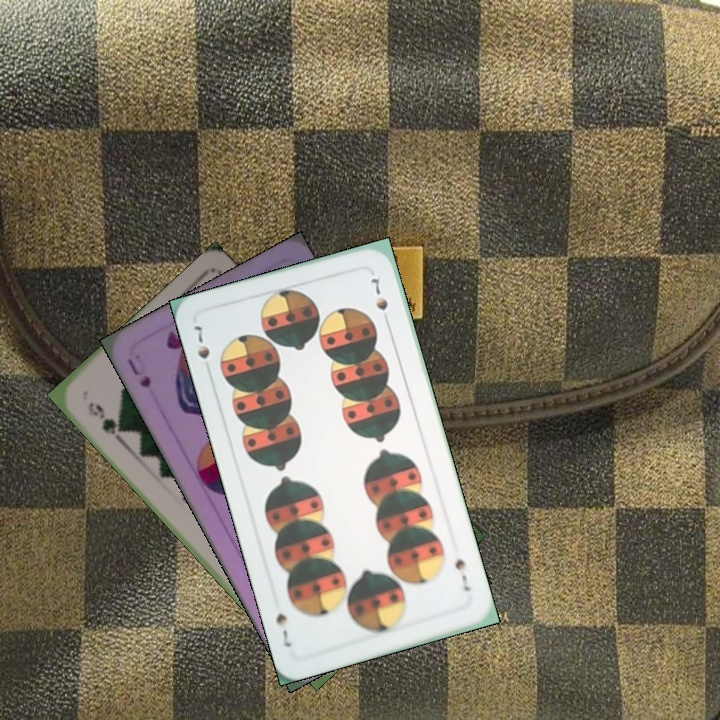G9: (83, 397, 127, 438)
S7: (189, 320, 213, 362), (451, 555, 474, 594)
SU: (123, 355, 154, 390)
